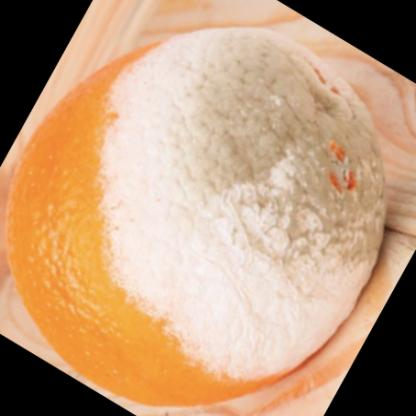rotten: (10, 26, 386, 407)
